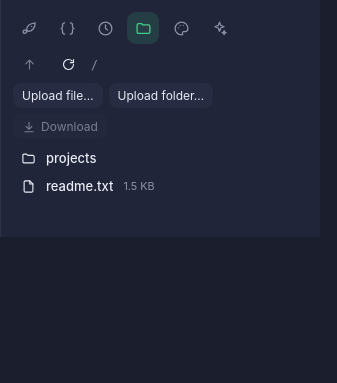
Test: terminal sidebar: Files › shows the transfer with its buttons, in the sidebar too
Click the button "Upload file…": (58, 96) [13,83,103,108]
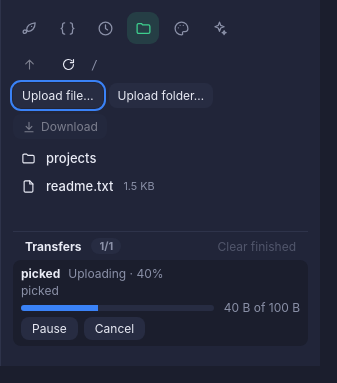
Expected: the list item "picked" shows "Uploading · 40%", [68,266,164,281]
Click the button named "Pause picked": (49, 328) [21,317,78,340]
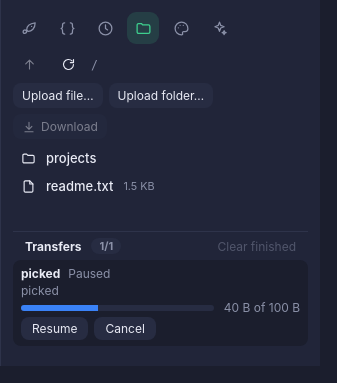
Expected: the list item "picked" shows "Paused", [68,266,110,281]
